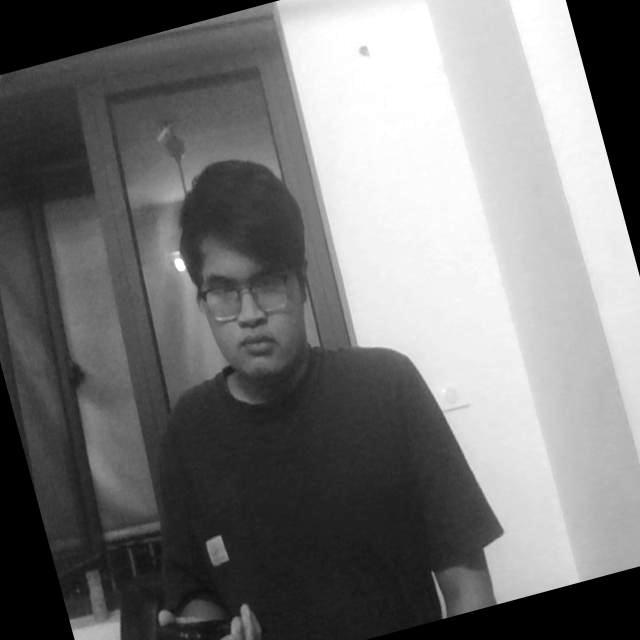phone: (139, 580, 270, 640)
